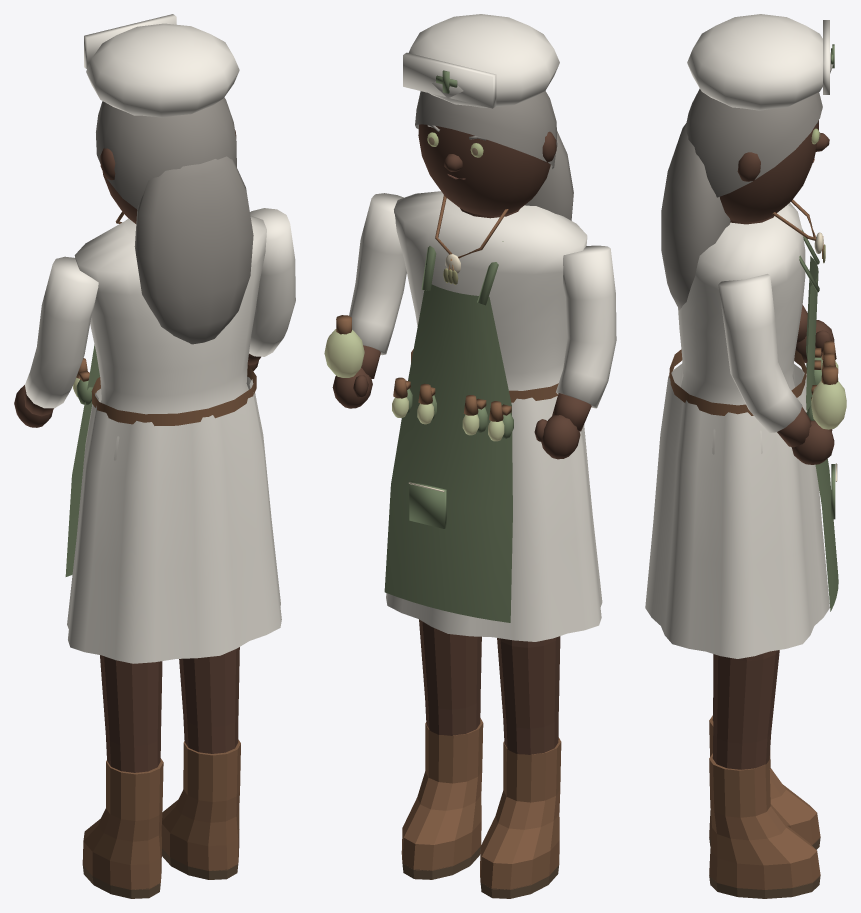
File: SM_NPC_NIEVE.glb
3 renders of one model, left to right at view 1: azimuth 30°, elevation 25°; view 2: azimuth 150°, elevation 25°; view 3: azimuth 270°, elevation 25°, orthographic.
Visible parts, largest first — view 1: SM_NPC_NIEVE_BODY, SM_NPC_NIEVE_HAIR, SM_NPC_NIEVE_LEG_L, SM_NPC_NIEVE_LEG_R, SM_NPC_NIEVE_ARM_L, SM_NPC_NIEVE_ARM_R, SM_NPC_NIEVE_HEAD; view 2: SM_NPC_NIEVE_BODY, SM_NPC_NIEVE_HAIR, SM_NPC_NIEVE_LEG_L, SM_NPC_NIEVE_LEG_R, SM_NPC_NIEVE_ARM_L, SM_NPC_NIEVE_ARM_R, SM_NPC_NIEVE_HEAD; view 3: SM_NPC_NIEVE_BODY, SM_NPC_NIEVE_HAIR, SM_NPC_NIEVE_LEG_R, SM_NPC_NIEVE_ARM_R, SM_NPC_NIEVE_HEAD, SM_NPC_NIEVE_LEG_L, SM_NPC_NIEVE_ARM_L.
Part boxes in pixels (x1,y1,x2,y2): SM_NPC_NIEVE_BODY: [65, 212, 281, 663]; SM_NPC_NIEVE_HAIR: [84, 14, 253, 344]; SM_NPC_NIEVE_LEG_L: [82, 655, 163, 898]; SM_NPC_NIEVE_LEG_R: [161, 647, 240, 879]; SM_NPC_NIEVE_ARM_L: [14, 256, 98, 427]; SM_NPC_NIEVE_ARM_R: [247, 208, 295, 370]; SM_NPC_NIEVE_HEAD: [100, 130, 236, 223]; SM_NPC_NIEVE_BODY: [384, 191, 602, 641]; SM_NPC_NIEVE_HAIR: [403, 14, 573, 220]; SM_NPC_NIEVE_LEG_L: [480, 636, 561, 898]; SM_NPC_NIEVE_LEG_R: [401, 619, 483, 879]; SM_NPC_NIEVE_ARM_L: [534, 245, 616, 459]; SM_NPC_NIEVE_ARM_R: [324, 193, 406, 408]; SM_NPC_NIEVE_HEAD: [418, 124, 556, 215]; SM_NPC_NIEVE_BODY: [645, 199, 838, 658]; SM_NPC_NIEVE_HAIR: [661, 14, 834, 310]; SM_NPC_NIEVE_LEG_R: [709, 650, 820, 898]; SM_NPC_NIEVE_ARM_R: [718, 274, 846, 464]; SM_NPC_NIEVE_HEAD: [720, 120, 829, 222]; SM_NPC_NIEVE_LEG_L: [709, 654, 820, 849]; SM_NPC_NIEVE_ARM_L: [795, 305, 834, 363].
Bounding box in the file's own units: 0.5578 × 1.76 × 0.3829.
